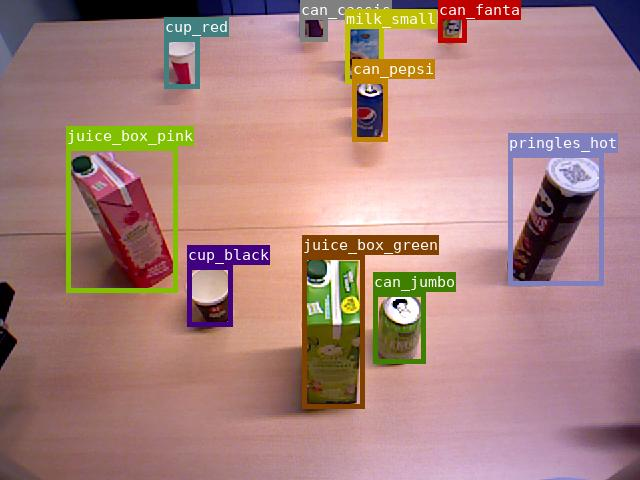can_cassis: (300, 0, 327, 41)
can_fanta: (438, 0, 466, 42)
can_jumbo: (373, 292, 425, 363)
can_pepsi: (352, 79, 387, 141)
cup_black: (187, 265, 232, 326)
cup_red: (164, 37, 199, 88)
juice_box_green: (302, 255, 364, 408)
juice_box_pink: (66, 146, 177, 292)
milk_small: (345, 9, 383, 83)
pringles_hot: (508, 153, 603, 285)
